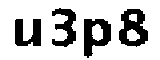3: (49, 5, 77, 51)
8: (117, 6, 150, 49)
p: (80, 16, 110, 60)
u: (12, 14, 44, 51)
